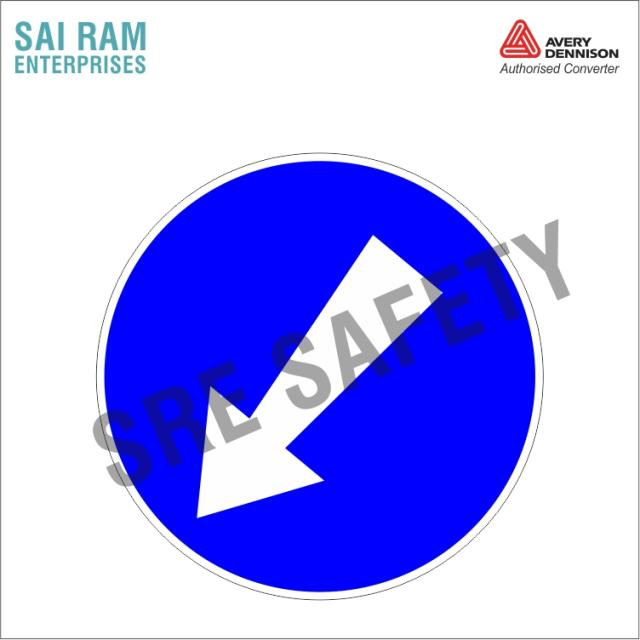COMPULSARY_KEEP_LEFT: (91, 146, 549, 609)
